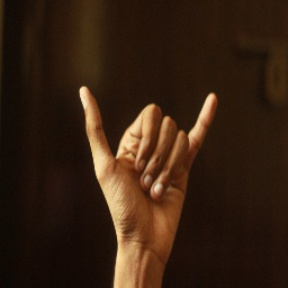J: (72, 77, 219, 232)
